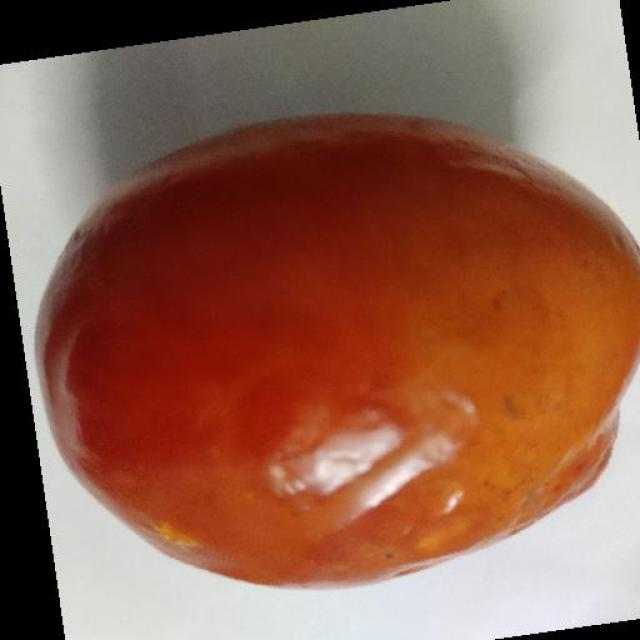Stale_tomato: (37, 154, 640, 545)
